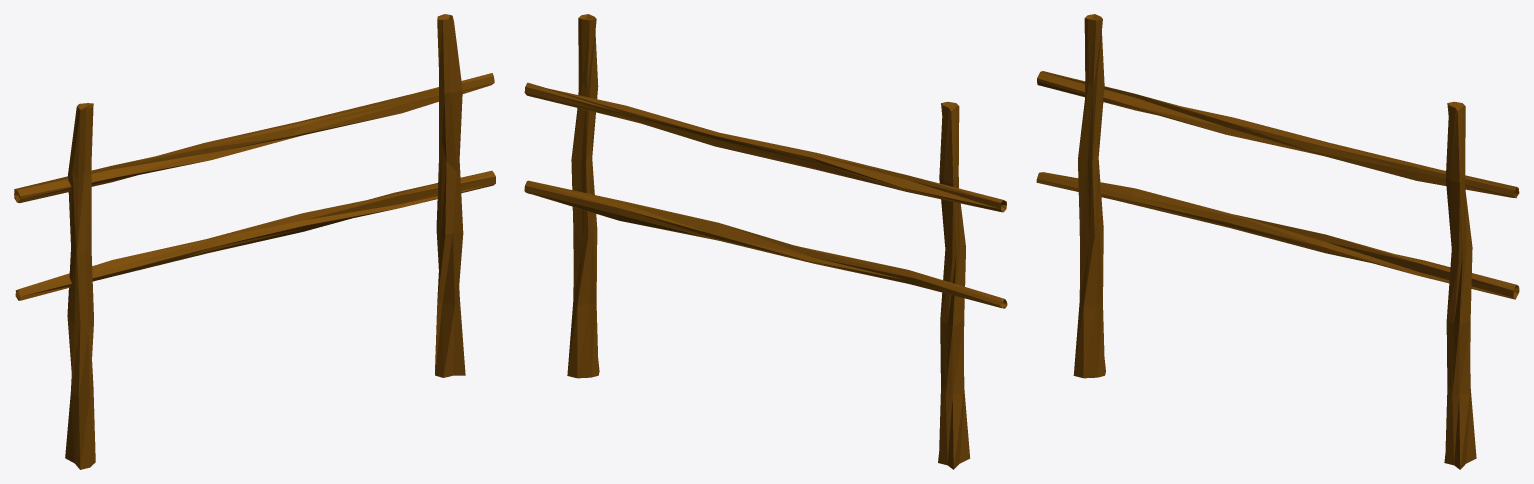
File: Stick_Fence.fbx
3 renders of one model, left to right at view 1: azimuth 30°, elevation 25°; view 2: azimuth 150°, elevation 25°; view 3: azimuth 330°, elevation 25°, orthographic.
Visible parts, largest first — view 1: Fence; view 2: Fence; view 3: Fence.
Part boxes in pixels (<box>): Fence: <box>14,14,495,469</box>; Fence: <box>524,14,1007,469</box>; Fence: <box>1036,14,1519,469</box>.
Bounding box in the file's own units: 280 × 200 × 20.87.
